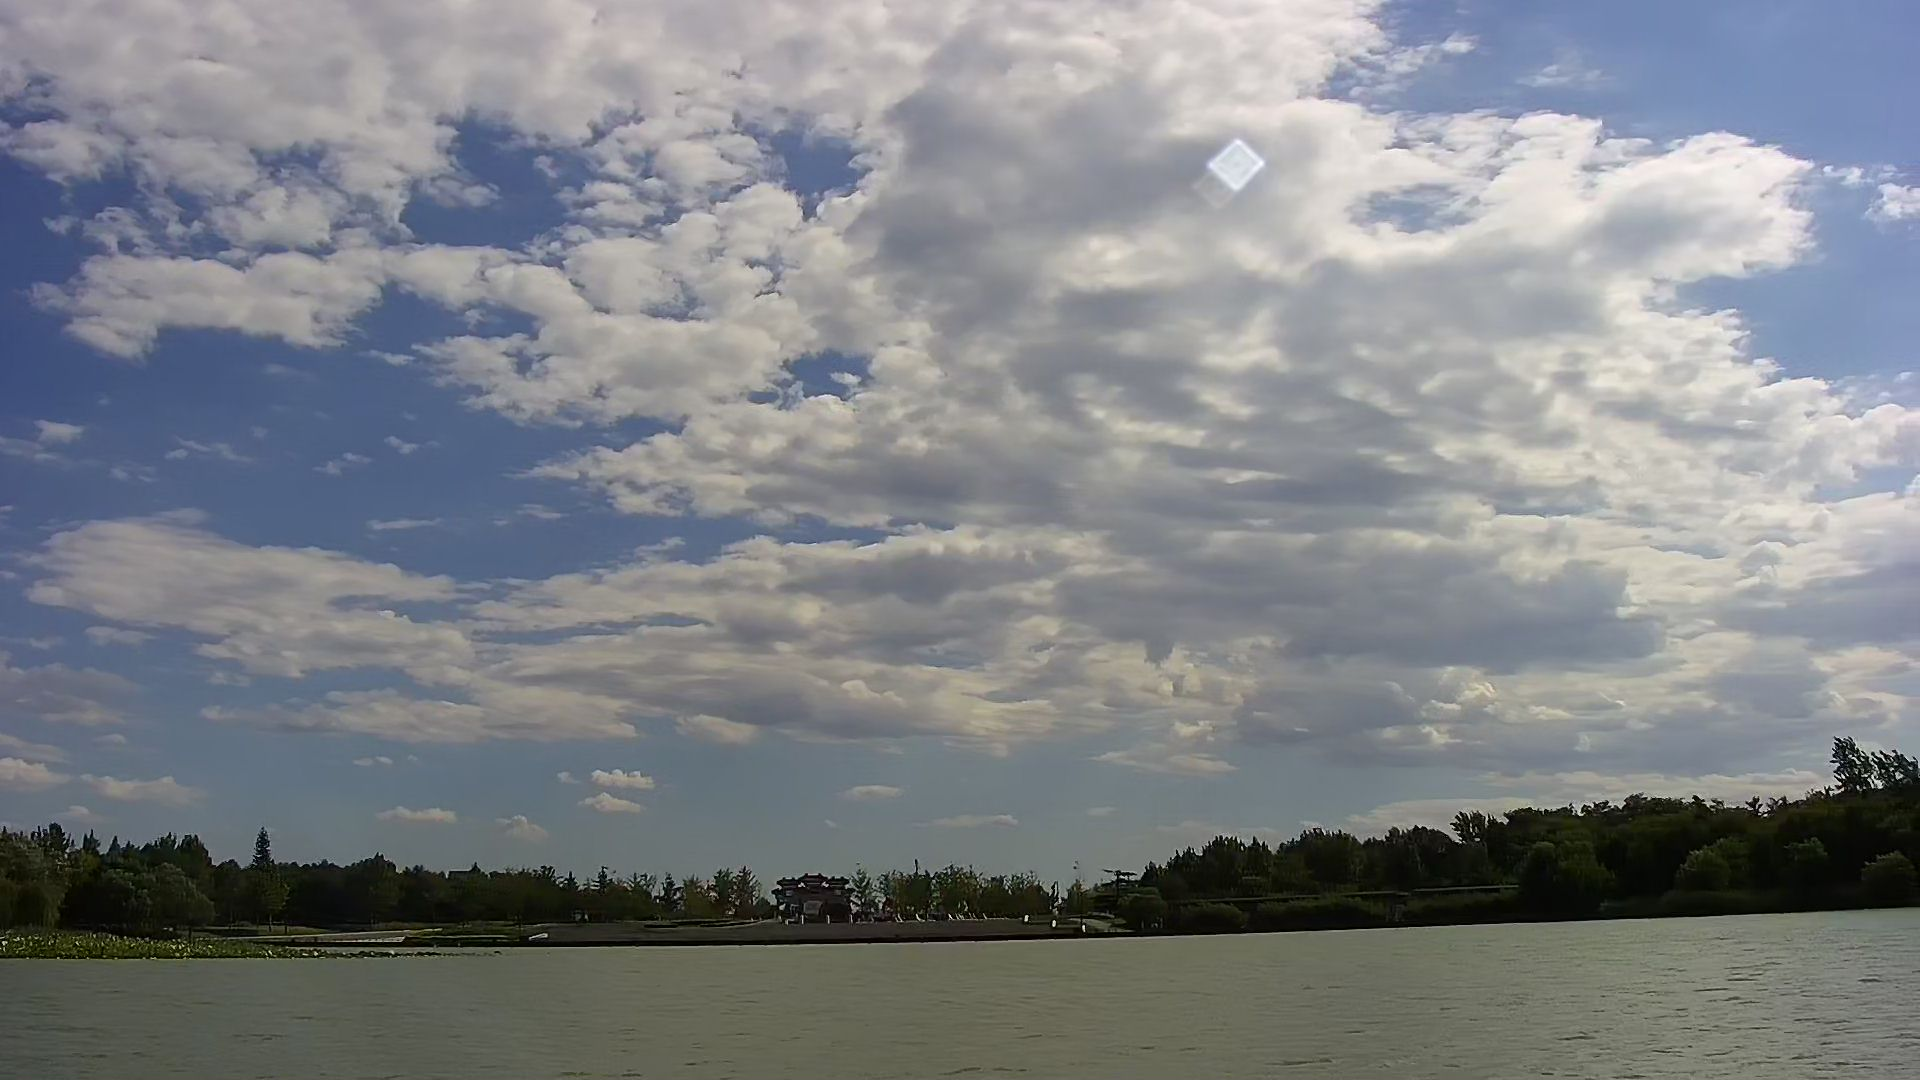harbor: (516, 911, 1168, 948)
